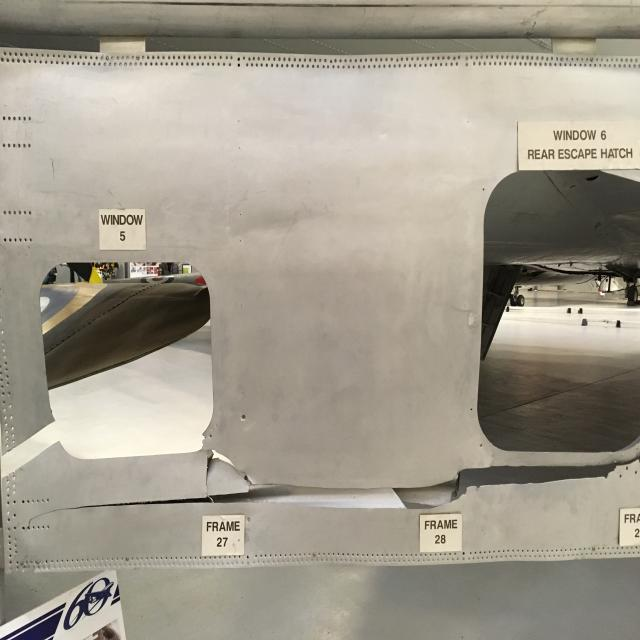Rupture: (26, 439, 640, 531)
